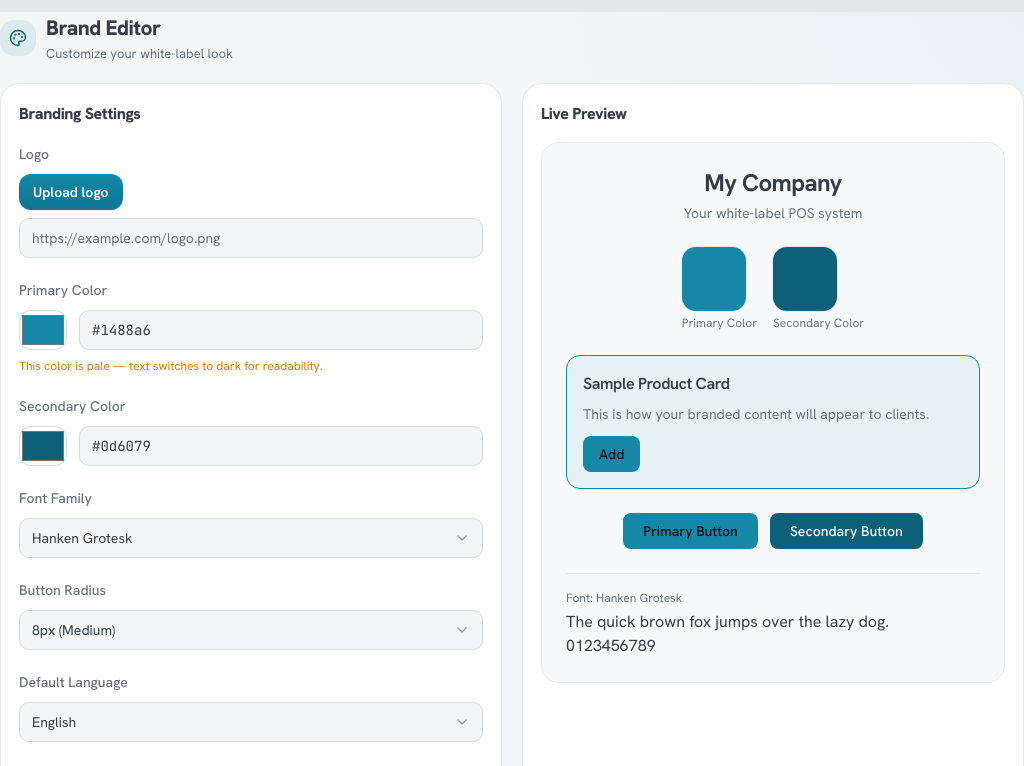
BrandingEditor preview contrast (B3) › flips preview button text to dark ink on a pale brand and warns
Expected: the heading "Live Preview" is shown, x1=541 y1=103 x2=627 y2=124
Replace the text in the field named "Primary Color" with "#ffffff": (281, 330) x1=79 y1=310 x2=483 y2=350
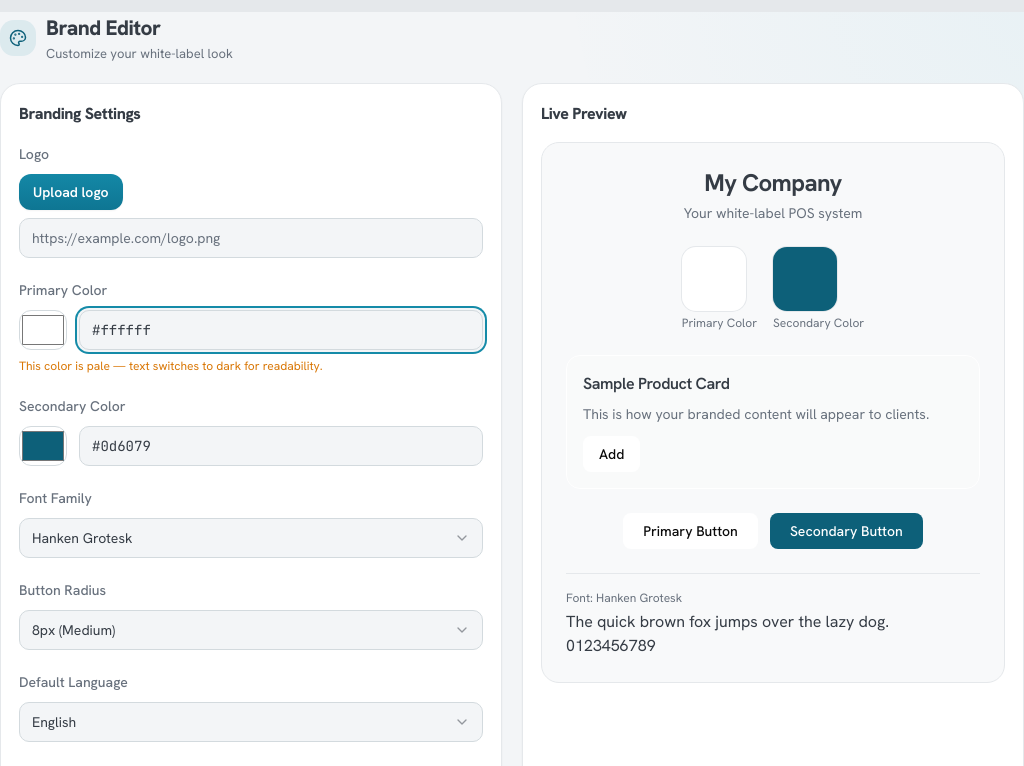
Expected: the text "This color is pale — text switches to dark for readability." is shown, x1=19 y1=358 x2=323 y2=374
Result: the button "Primary Button" has style "color: rgb(10, 10, 10)" at x1=623 y1=513 x2=758 y2=549
